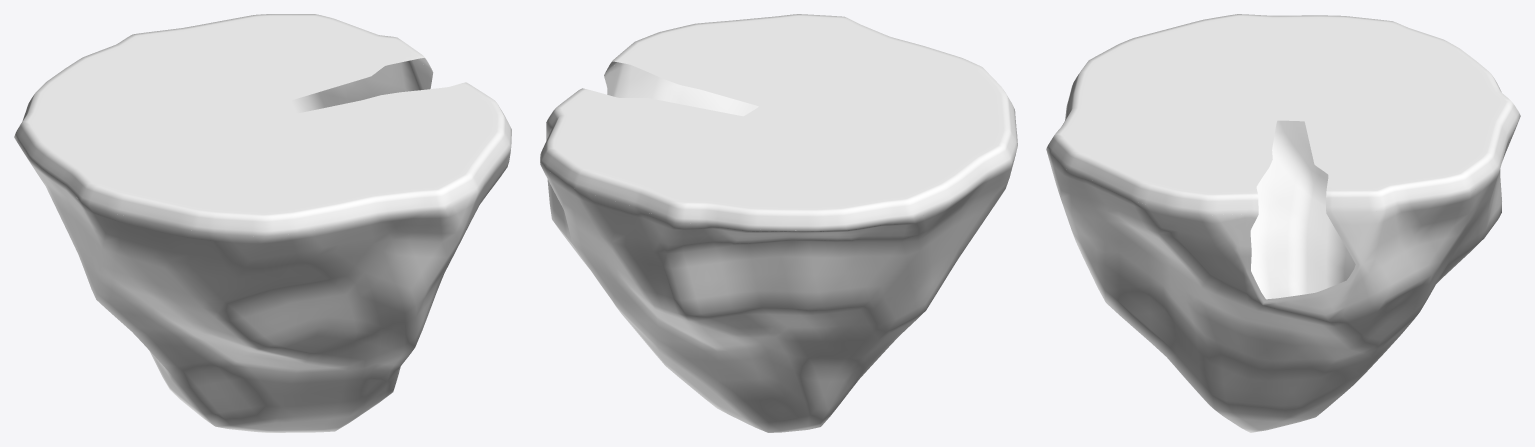
Rendered from island-transformed.glb.
3 views of the same model, side by side, from view 1: azimuth 30°, elevation 25°; view 2: azimuth 150°, elevation 25°; view 3: azimuth 270°, elevation 25° (orthographic). The views are drawn at different scales.
Parts seen in each view (by area): view 1: Icosphere.001; view 2: Icosphere.001; view 3: Icosphere.001.
Part boxes in pixels (left/top/right/bottom): Icosphere.001: left=14, top=14, right=511, bottom=432; Icosphere.001: left=540, top=14, right=1017, bottom=432; Icosphere.001: left=1046, top=14, right=1520, bottom=432.
Bounding box in the file's own units: 32.47 × 24.14 × 33.88.
2 materials, 2 textured.
